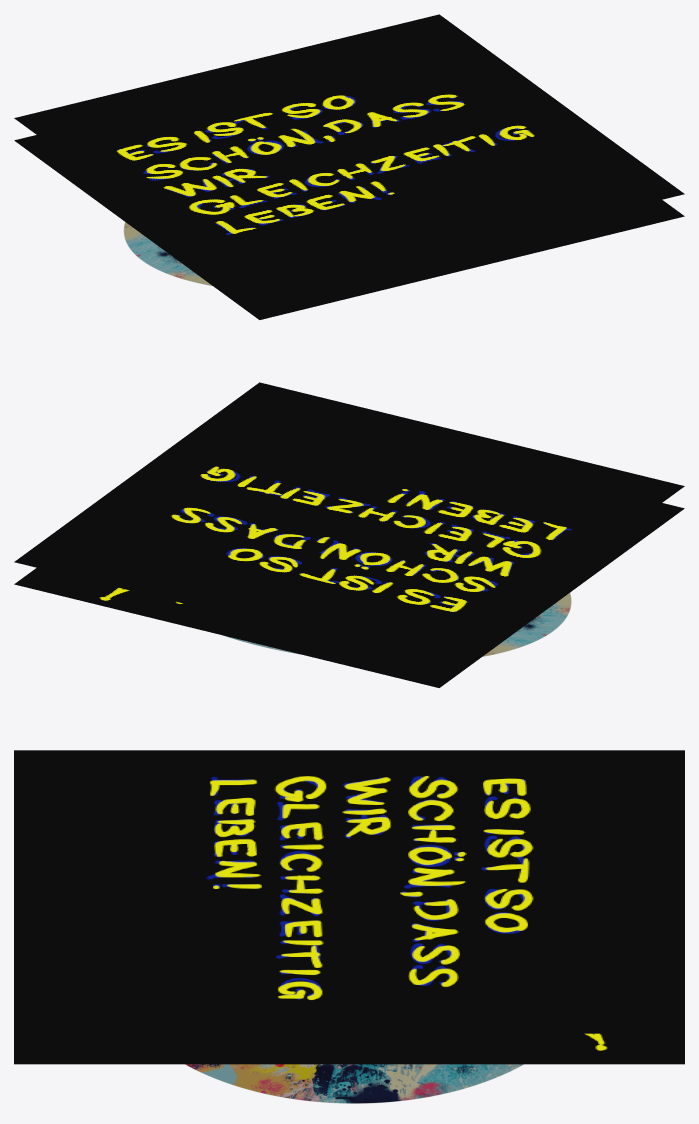
Rendered from queen_krone_gleichzeitig_leben-6.glb.
3 renders of one model, top to bottom at view 1: azimuth 30°, elevation 25°; view 2: azimuth 150°, elevation 25°; view 3: azimuth 270°, elevation 25°, orthographic. The views are drawn at different scales.
Parts seen in each view (by area): view 1: Fläche.003, Fläche.002, Fläche.001; view 2: Fläche.003, Fläche.002, Fläche.001; view 3: Fläche.003, Fläche.002, Fläche.001.
Boxes of the visible parts, x1,y1,x2,y2 form: Fläche.003: (14, 14, 684, 297); Fläche.002: (14, 135, 684, 319); Fläche.001: (123, 222, 212, 285); Fläche.003: (14, 382, 684, 665); Fläche.002: (14, 503, 684, 687); Fläche.001: (223, 593, 571, 656); Fläche.003: (14, 750, 684, 1033); Fläche.002: (14, 1033, 684, 1064); Fläche.001: (185, 1064, 523, 1103).
Size of the model in its own units: 2 by 0.25 by 2.
Materials: 3 (3 with a texture image).
